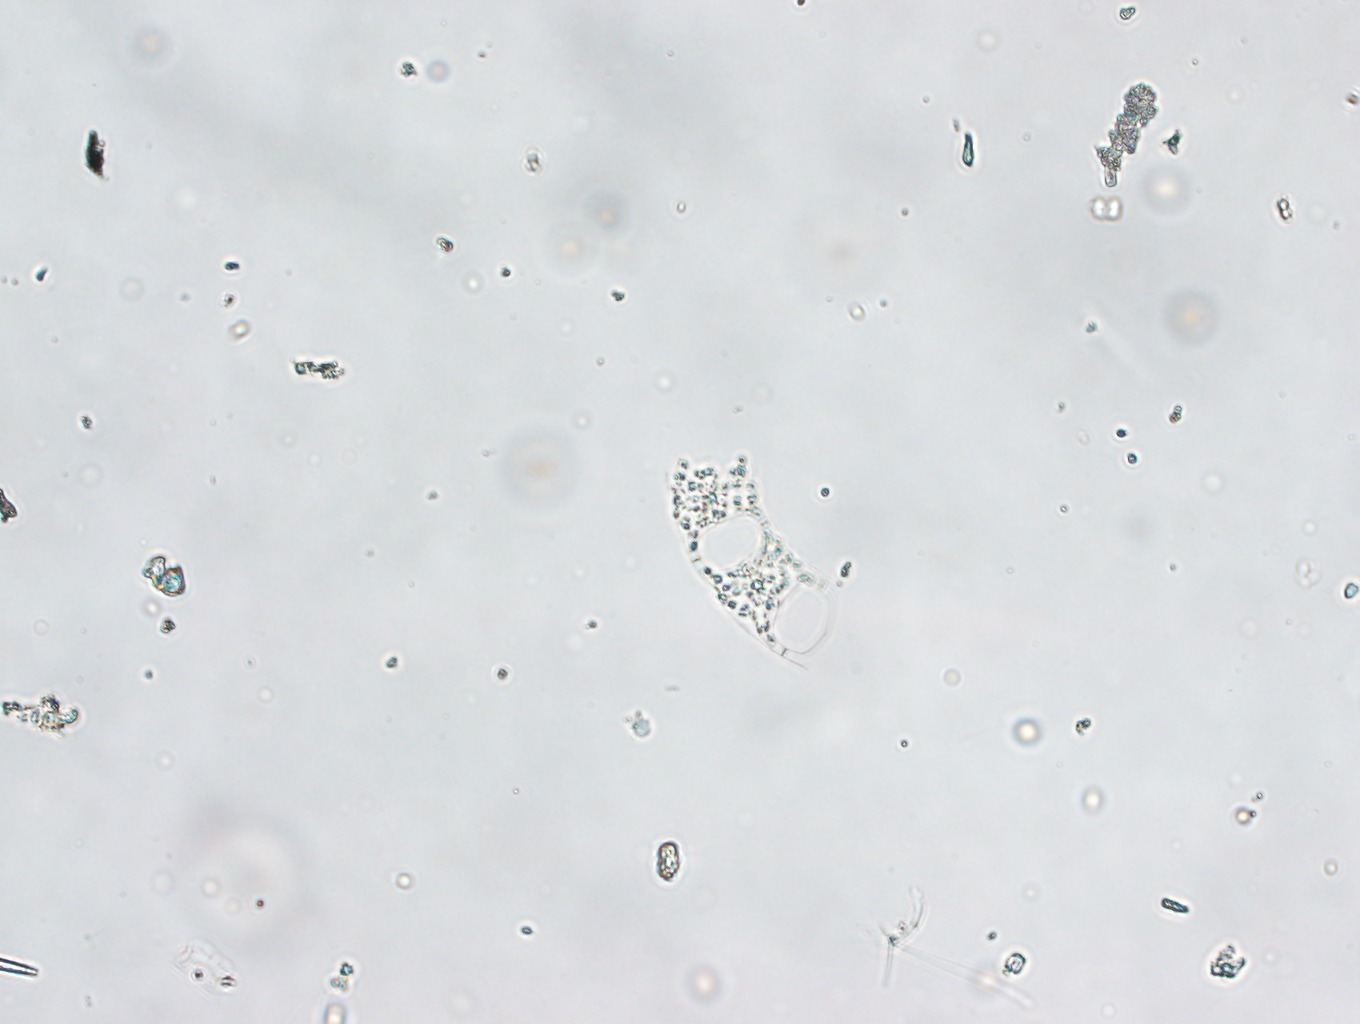eucampia: (663, 443, 868, 665)
